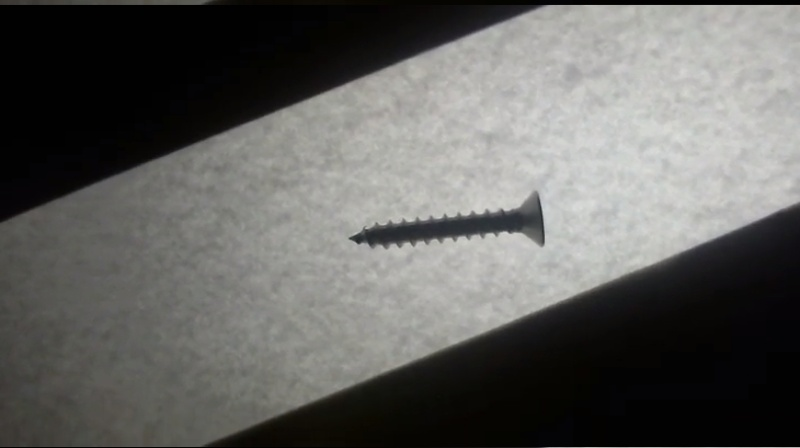S001: (341, 189, 548, 250)
